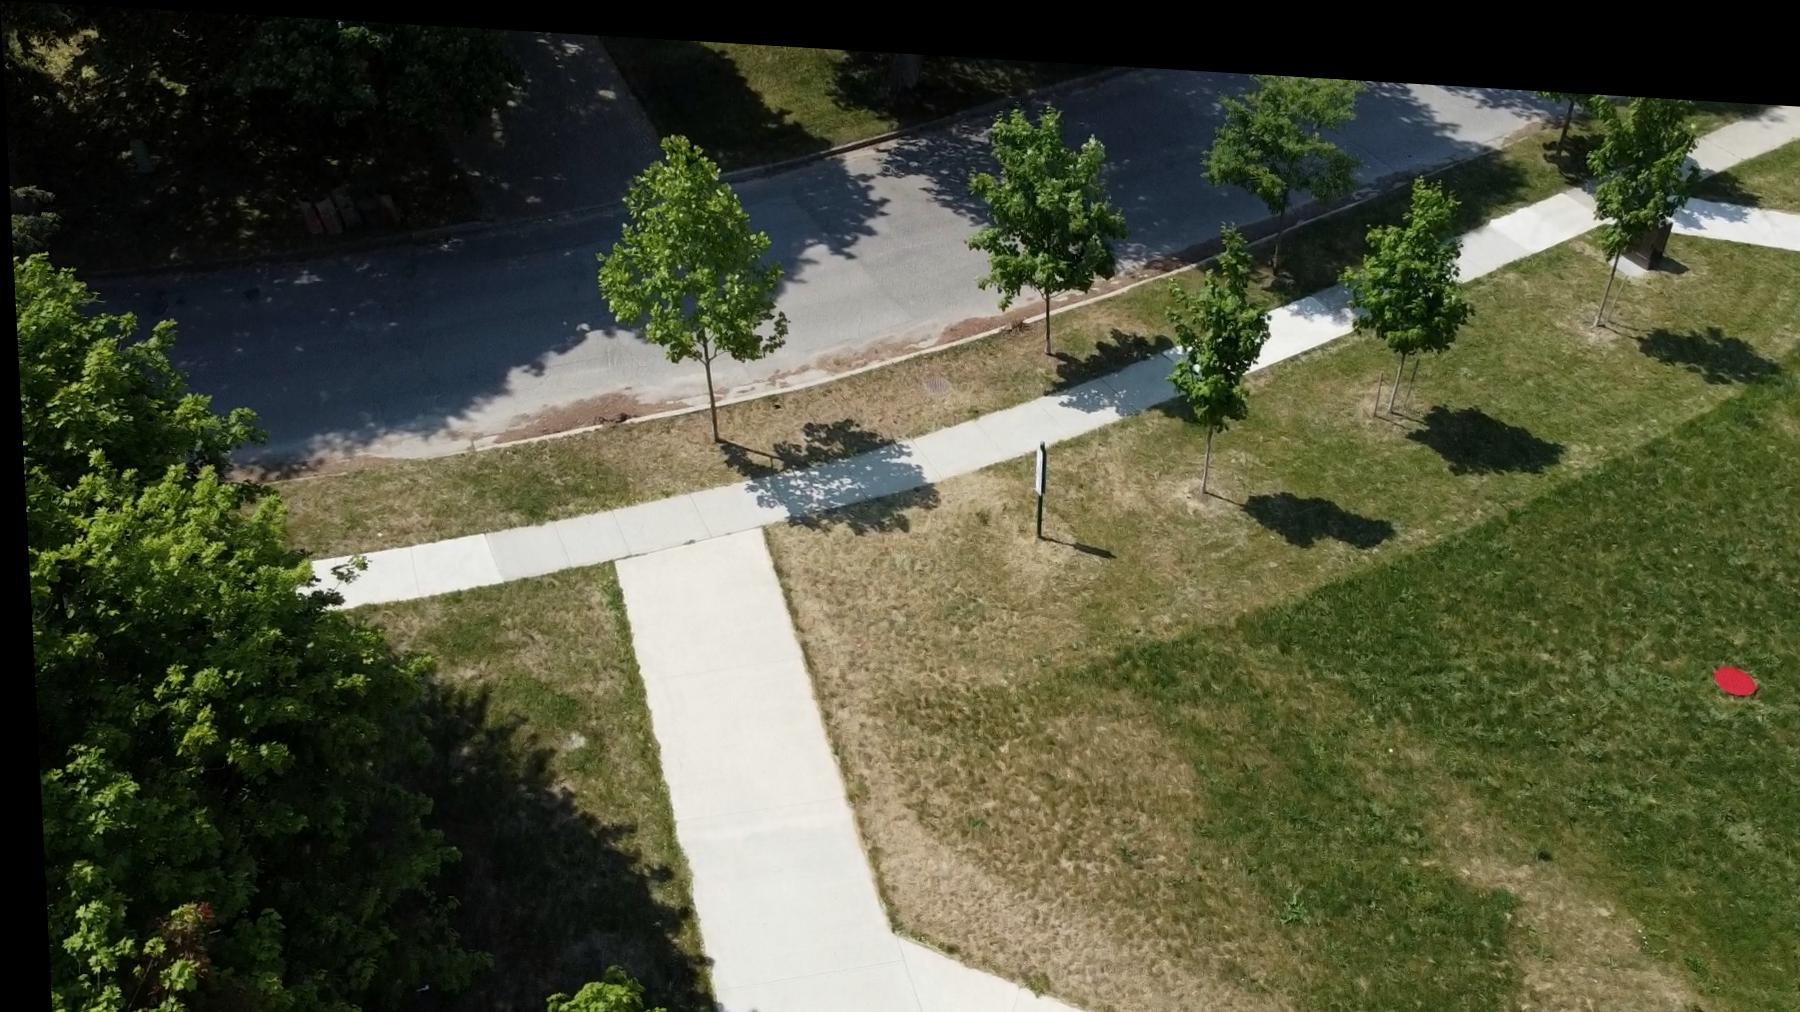Red: (1705, 644, 1752, 677)
